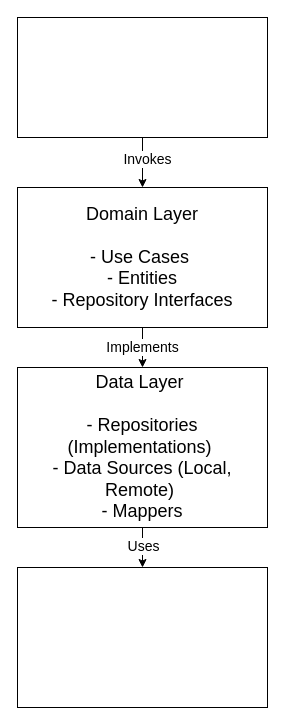
The diagram is 285 pixels wide and 725 high, and some of its shapes have lost their labels. Here are the shapes that lost their labels. From the top down, the centre of each, then its label:
At point (142, 77): "Presentation Layer - Views (ViewControllers) - ViewModels - Components".
At point (142, 637): "Networking and Other Services".
